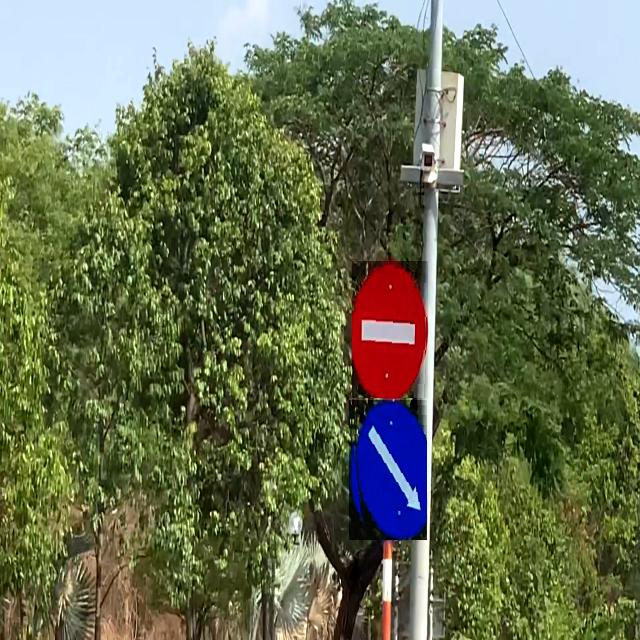27: (349, 400, 427, 540)
bien_chi_dan: (352, 261, 428, 398)
